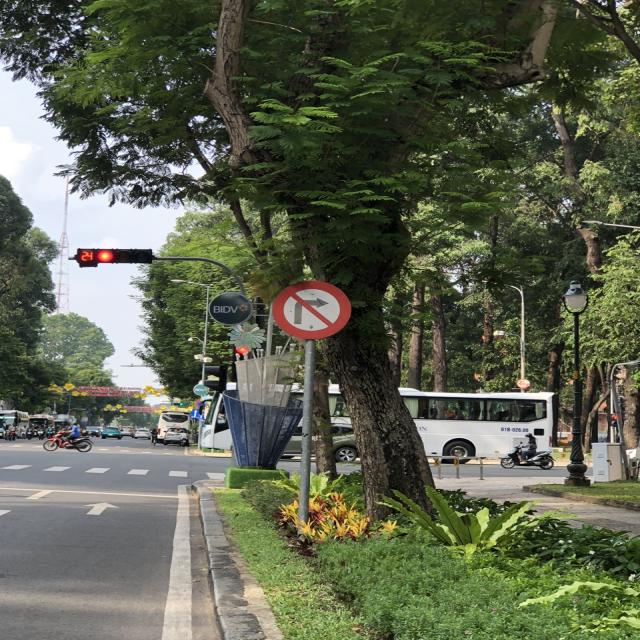Bien bao cam re phai: (267, 275, 358, 344)
